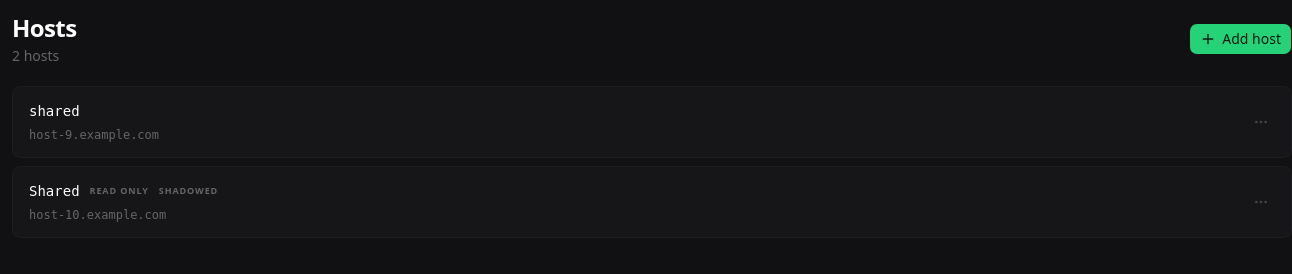
Test: hosts page override action › offers no override for ui hosts or file hosts already overridden
The image size is (1292, 274).
Step 1. Click the button named "Actions for shared" → (1261, 122), box top-left (1247, 108), bottom-right (1275, 136)
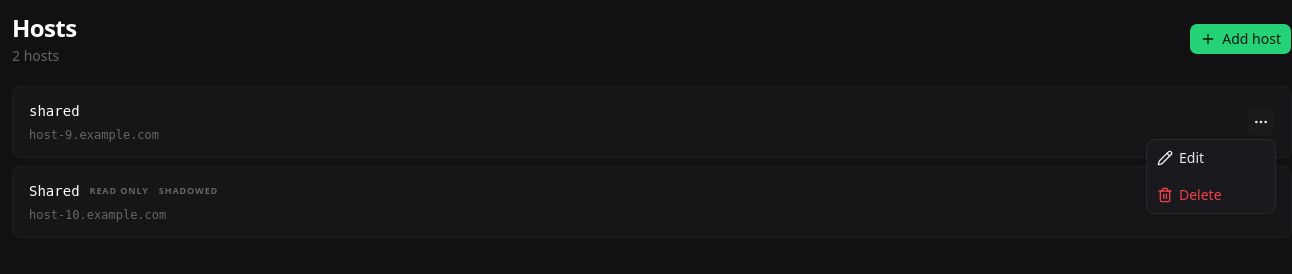
Now the menu item "Edit" is shown, box top-left (1157, 148), bottom-right (1204, 167)
Step 2. Press Escape
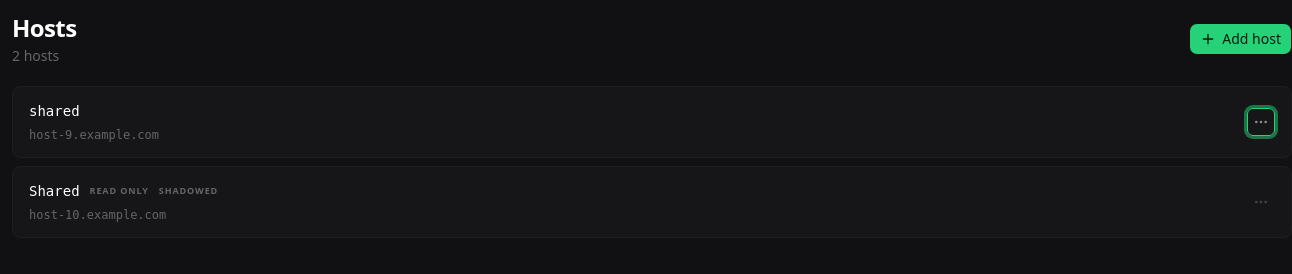
Step 3. Click the button named "Actions for Shared" → (1261, 202), box top-left (1247, 188), bottom-right (1275, 216)
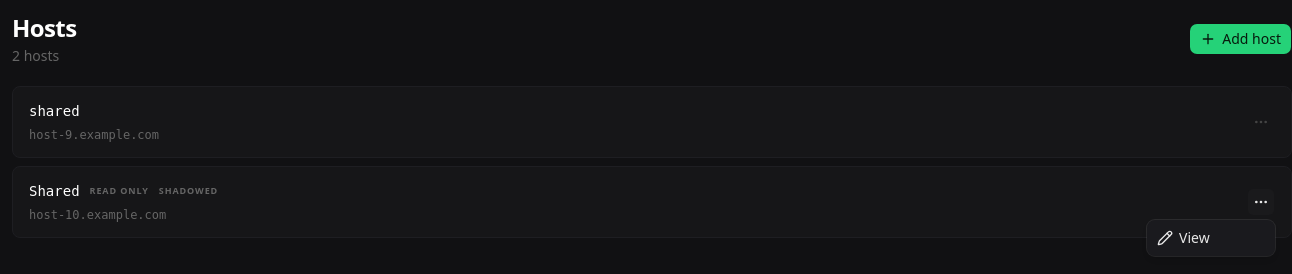
Now the menu item "View" is shown, box top-left (1157, 228), bottom-right (1210, 247)
